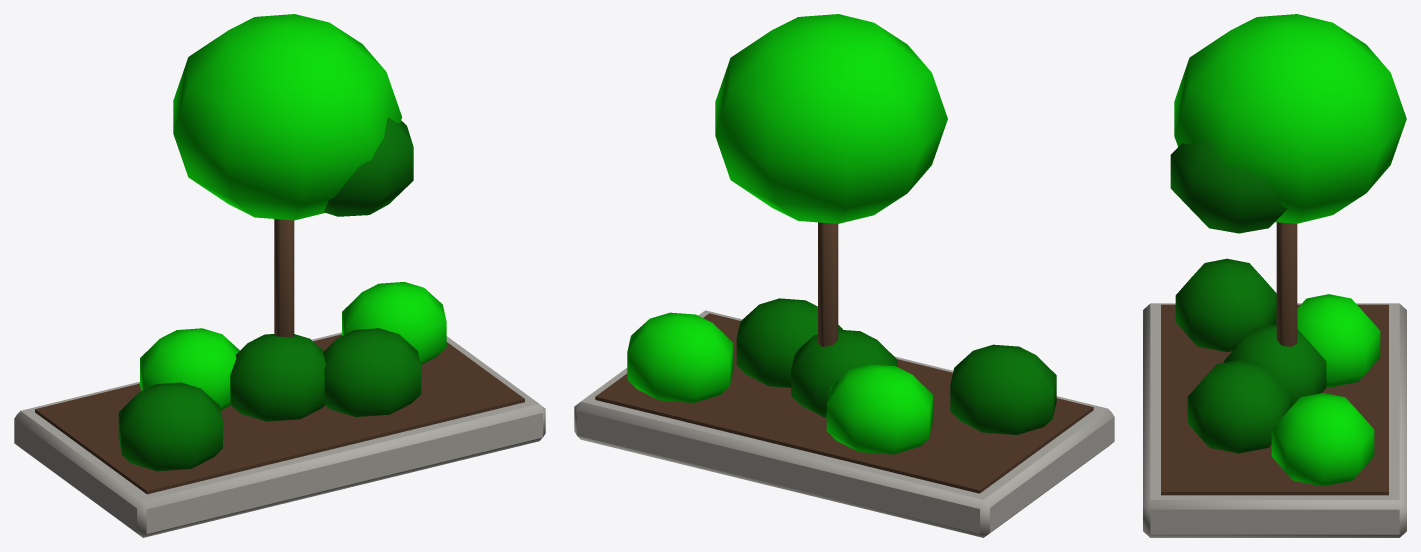
Rendered from Planter.fbx.
3 renders of one model, left to right at view 1: azimuth 30°, elevation 25°; view 2: azimuth 150°, elevation 25°; view 3: azimuth 270°, elevation 25°, orthographic.
Parts seen in each view (by area): view 1: Planter; view 2: Planter; view 3: Planter.
Part boxes in pixels (x1=…): Planter: x1=14, y1=14, x2=545, y2=537; Planter: x1=574, y1=14, x2=1114, y2=537; Planter: x1=1143, y1=14, x2=1406, y2=537.
Size of the model in its own units: 4 by 3.85 by 2.2.
